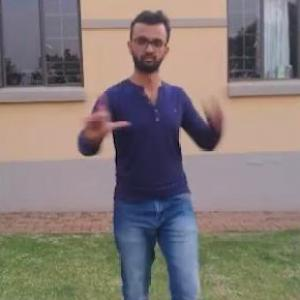land_hand: (72, 79, 132, 140)
